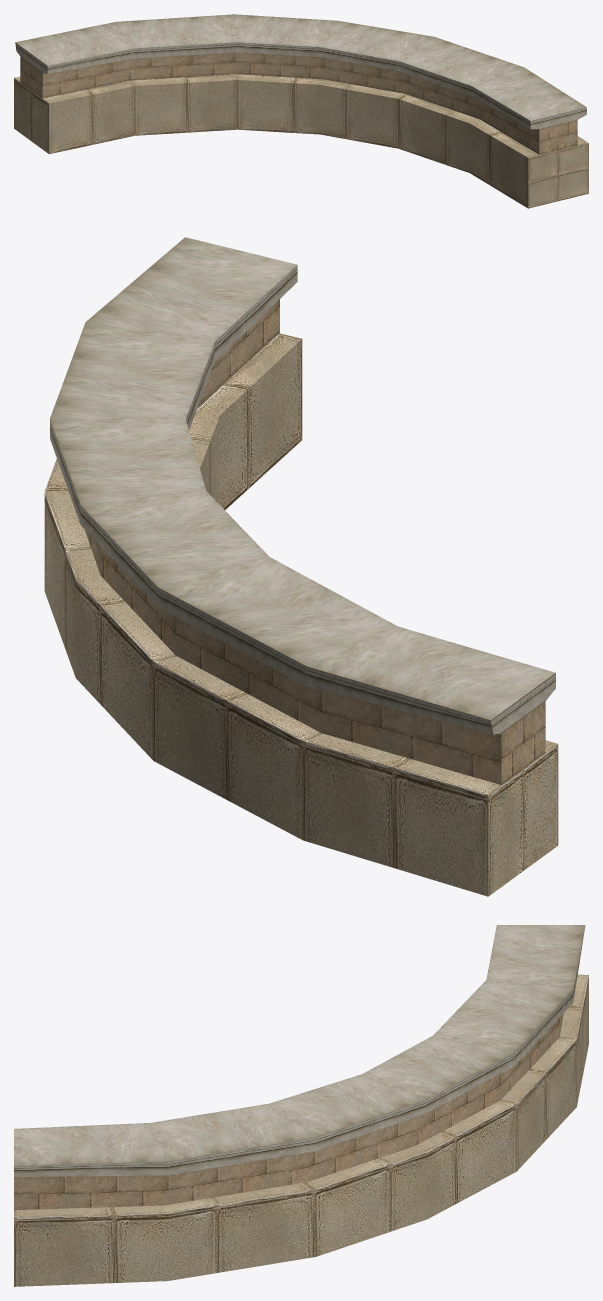
File: thm_nboo_imprv_short_curved_wall_large_s01_l0.fbx
The picture shows the model from 3 angles, top to bottom: view 1: azimuth 30°, elevation 25°; view 2: azimuth 150°, elevation 25°; view 3: azimuth 270°, elevation 25°; orthographic projection. The views are drawn at different scales.
Parts seen in each view (by area): view 1: mesh_node; view 2: mesh_node; view 3: mesh_node.
Part boxes in pixels (<box>): mesh_node: <box>14,14,588,208</box>; mesh_node: <box>44,237,558,896</box>; mesh_node: <box>14,925,588,1286</box>.
Bounding box in the file's own units: 8.72 × 2 × 8.73.
